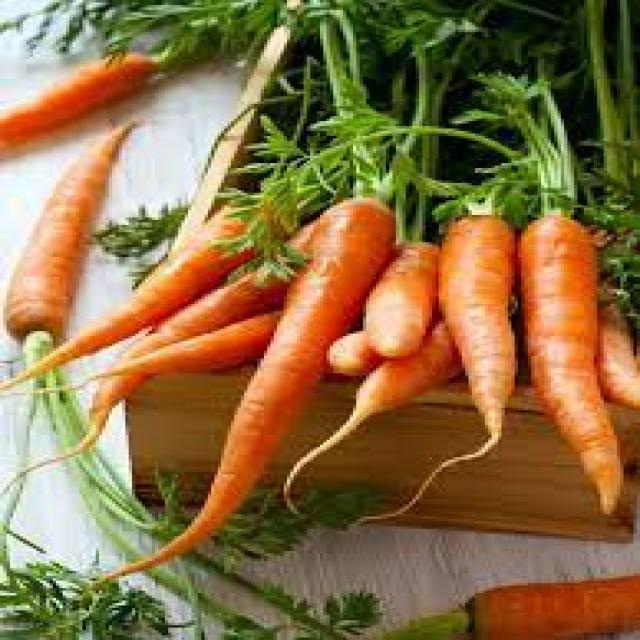Carrot: (443, 214, 529, 469)
